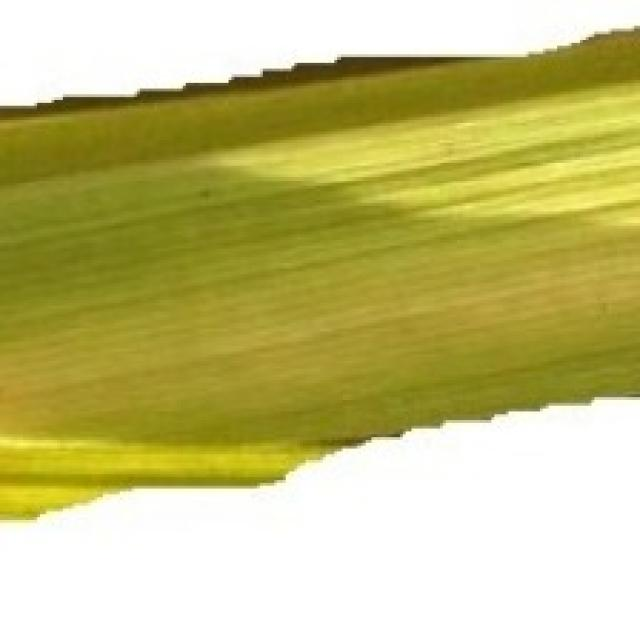Healthy: (2, 27, 640, 522)
